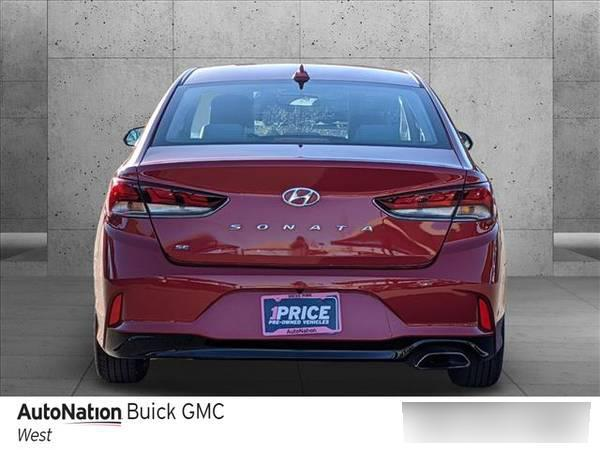Left_Taillight: (106, 174, 227, 223)
Rear_Bumper: (91, 212, 509, 362)
Rear_Windshield: (142, 76, 459, 153)
Right_Taillight: (373, 176, 497, 222)
Roof: (175, 59, 423, 87)
Tailgate: (115, 145, 485, 270)
